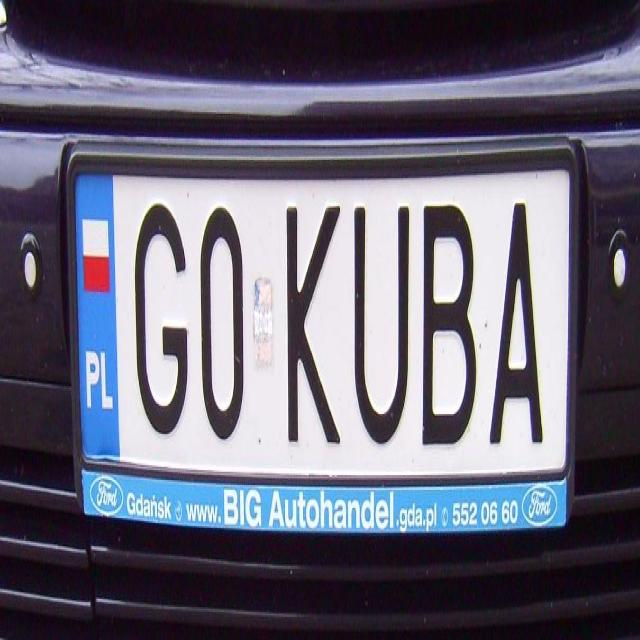pl_license_plate: (71, 156, 572, 468)
